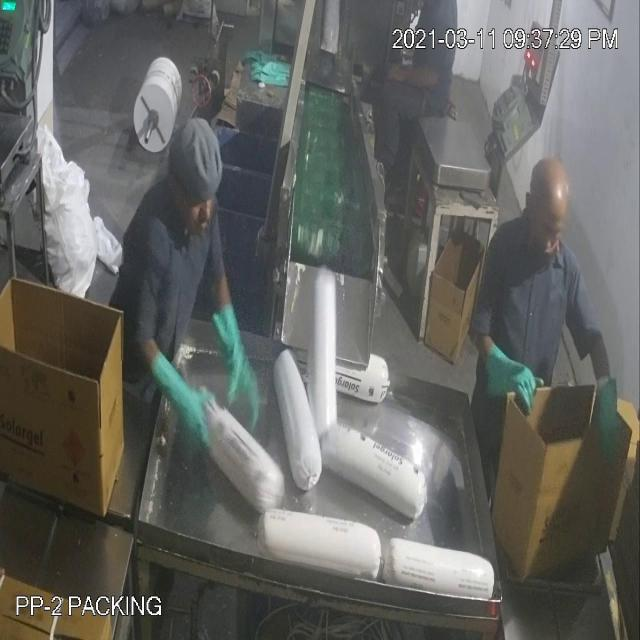Gloves: (32, 55, 612, 420)
